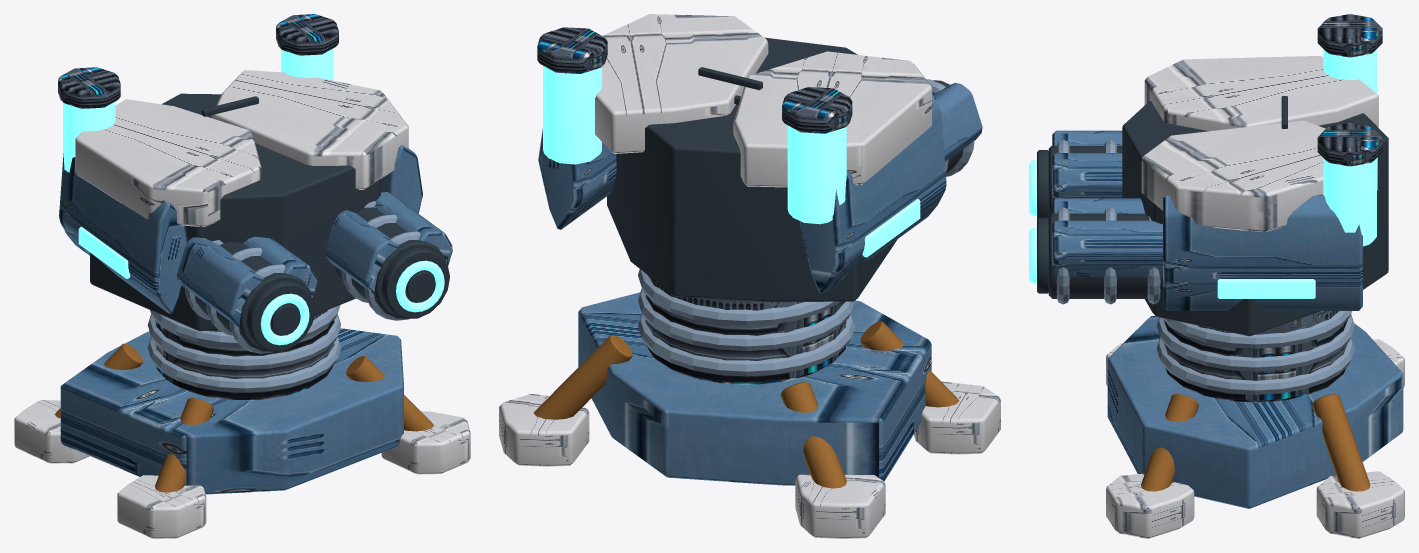
File: turret.glb
The picture shows the model from 3 angles, left to right: view 1: azimuth 30°, elevation 25°; view 2: azimuth 150°, elevation 25°; view 3: azimuth 270°, elevation 25°; orthographic projection. The views are drawn at different scales.
Parts seen in each view (by area): view 1: Turret hex anchor, Splayed planted foot, Sloped rotating gun mantle, Turntable bearing, Rotating actuator, Anchoring hydraulic, Muzzle lens ring, Biome pressure capsule; view 2: Turret hex anchor, Splayed planted foot, Sloped rotating gun mantle, Rotating actuator, Turntable bearing, Biome pressure capsule, Anchoring hydraulic, Muzzle lens ring; view 3: Turret hex anchor, Splayed planted foot, Sloped rotating gun mantle, Turntable bearing, Rotating actuator, Biome pressure capsule, Anchoring hydraulic, Muzzle lens ring.
Part boxes in pixels (left/top/right/bottom): Turret hex anchor: left=59, top=145, right=452, bottom=494; Splayed planted foot: left=14, top=70, right=470, bottom=538; Sloped rotating gun mantle: left=90, top=93, right=449, bottom=351; Turntable bearing: left=147, top=201, right=420, bottom=392; Rotating actuator: left=58, top=14, right=338, bottom=399; Anchoring hydraulic: left=55, top=343, right=434, bottom=492; Muzzle lens ring: left=78, top=226, right=444, bottom=345; Biome pressure capsule: left=63, top=48, right=333, bottom=172; Turret hex anchor: left=538, top=83, right=982, bottom=485; Splayed planted foot: left=499, top=14, right=1000, bottom=538; Sloped rotating gun mantle: left=607, top=37, right=963, bottom=302; Rotating actuator: left=537, top=27, right=852, bottom=384; Turntable bearing: left=638, top=79, right=974, bottom=376; Biome pressure capsule: left=543, top=66, right=846, bottom=224; Anchoring hydraulic: left=534, top=321, right=959, bottom=488; Muzzle lens ring: left=862, top=199, right=920, bottom=257; Turret hex anchor: left=1052, top=130, right=1403, bottom=508; Splayed planted foot: left=1106, top=56, right=1404, bottom=538; Sloped rotating gun mantle: left=1037, top=96, right=1388, bottom=336; Turntable bearing: left=1056, top=139, right=1354, bottom=394; Rotating actuator: left=1163, top=14, right=1382, bottom=402; Biome pressure capsule: left=1323, top=49, right=1376, bottom=246; Anchoring hydraulic: left=1141, top=393, right=1370, bottom=491; Muzzle lens ring: left=1029, top=160, right=1315, bottom=298.
Size of the model in its own units: 1.1 by 1.14 by 1.03.
Materials: 8 (3 with a texture image).
